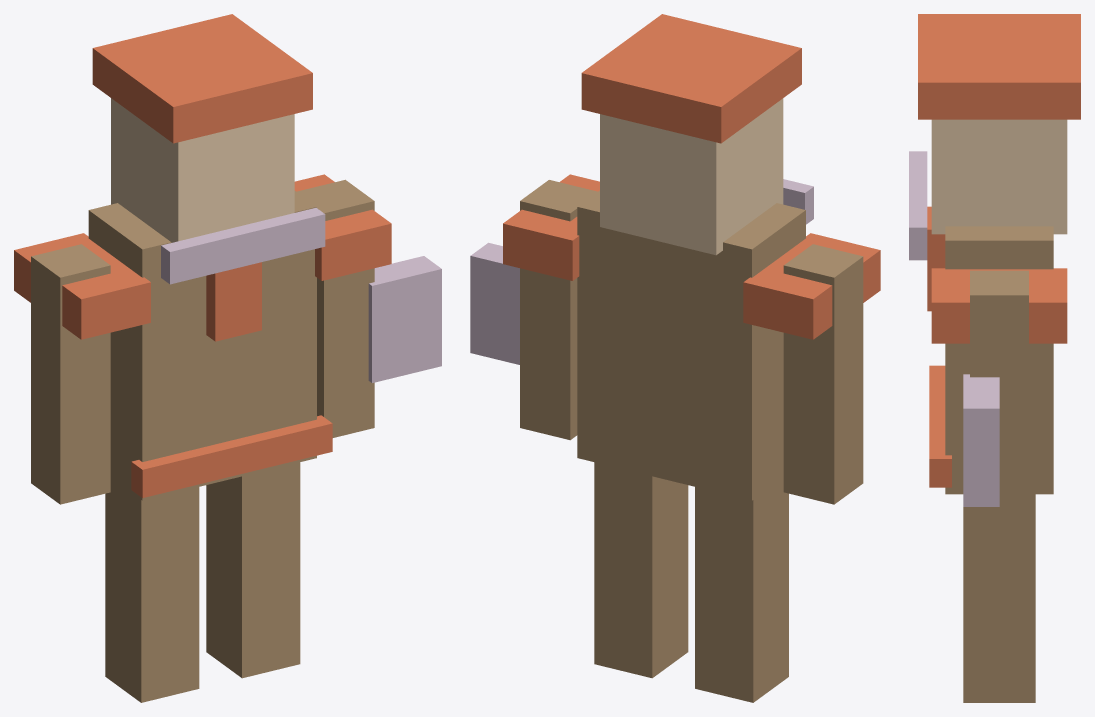
The model's file is 03_makoa_tideforged_cartographer_at_retrieval.glb.
The picture shows the model from 3 angles, left to right: view 1: azimuth 30°, elevation 25°; view 2: azimuth 150°, elevation 25°; view 3: azimuth 270°, elevation 25°; orthographic projection.
Parts seen in each view (by area): view 1: Makoa Tideforged, Cartographer at Retrieval; view 2: Makoa Tideforged, Cartographer at Retrieval; view 3: Makoa Tideforged, Cartographer at Retrieval.
Part boxes in pixels (x1=…): Makoa Tideforged, Cartographer at Retrieval: x1=14, y1=14, x2=441, y2=702; Makoa Tideforged, Cartographer at Retrieval: x1=470, y1=14, x2=880, y2=702; Makoa Tideforged, Cartographer at Retrieval: x1=909, y1=14, x2=1080, y2=702.
Bounding box in the file's own units: 1.01 × 1.56 × 0.394.
